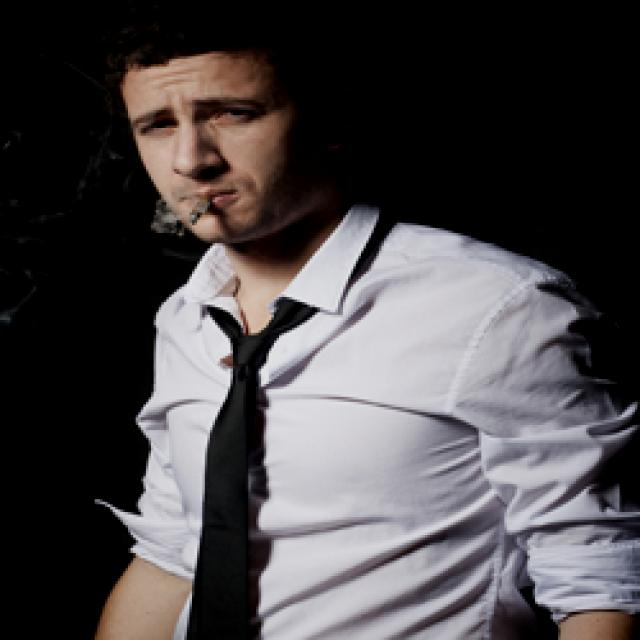Smooking: (178, 188, 215, 233)
